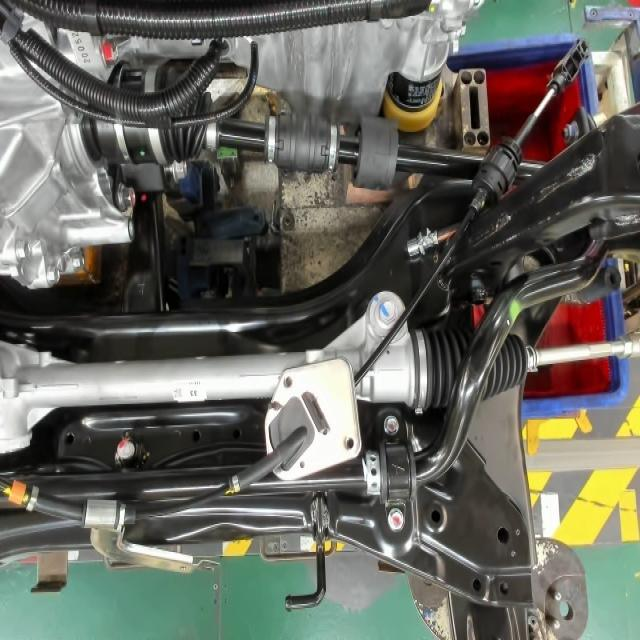Bar Stabilizer-HJ: (507, 297, 524, 327)
